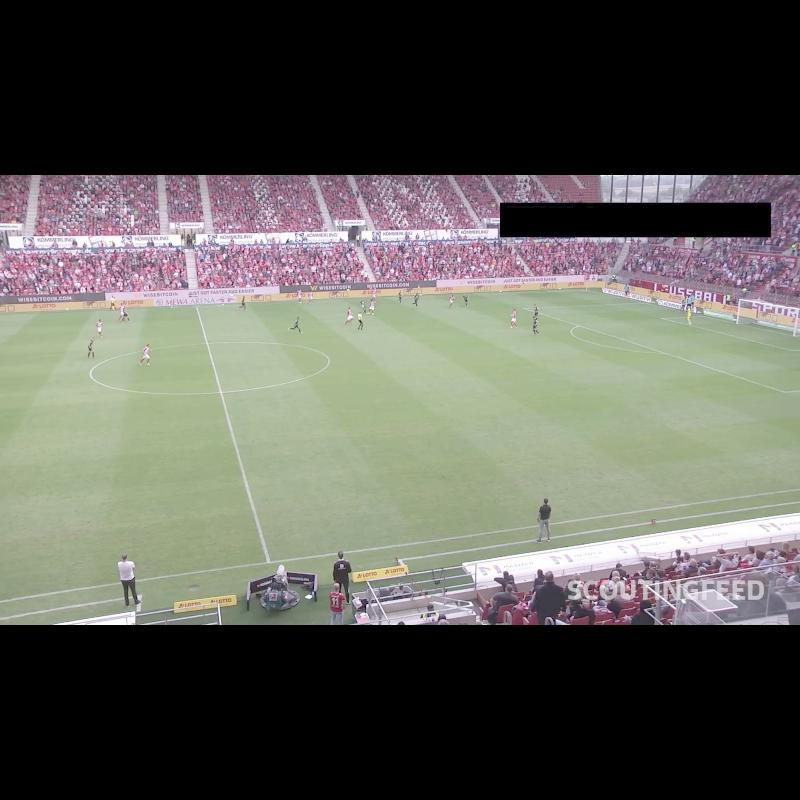cross_recipient_zone: (524, 302, 800, 392)
crossing_player_zone: (671, 390, 800, 462), (419, 290, 641, 312)
pitch: (0, 290, 800, 601)
